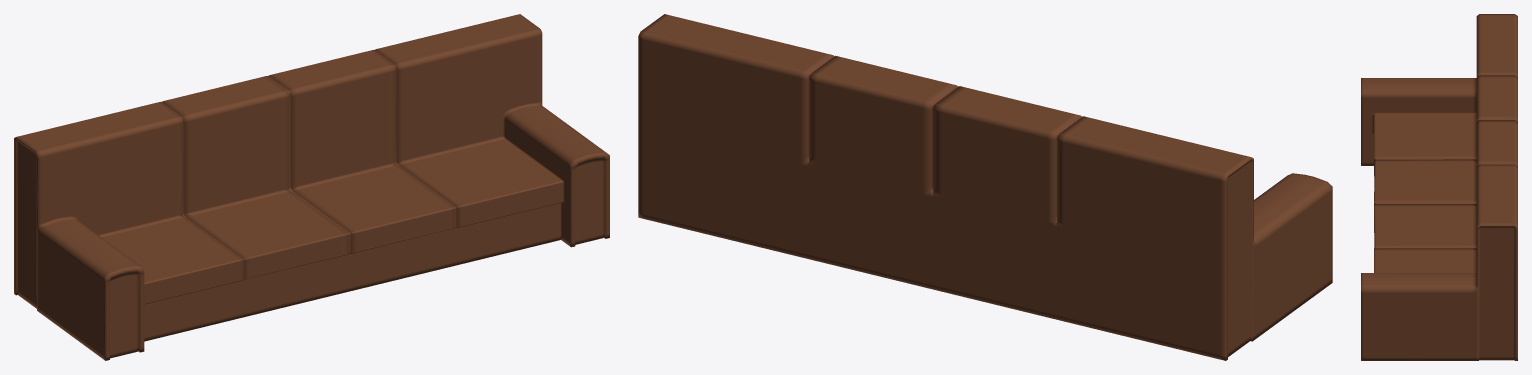
Rendered from Living_room_sofa_4.fbx.
3 views of the same model, side by side, from view 1: azimuth 30°, elevation 25°; view 2: azimuth 150°, elevation 25°; view 3: azimuth 270°, elevation 25° (orthographic). The views are drawn at different scales.
Parts seen in each view (by area): view 1: Living_room_sofa_4; view 2: Living_room_sofa_4; view 3: Living_room_sofa_4.
Boxes of the visible parts, left/top/right/bottom form: Living_room_sofa_4: left=14, top=14, right=609, bottom=360; Living_room_sofa_4: left=638, top=14, right=1332, bottom=360; Living_room_sofa_4: left=1361, top=14, right=1517, bottom=360.
Bounding box in the file's own units: 306 × 91.73 × 96.06.
